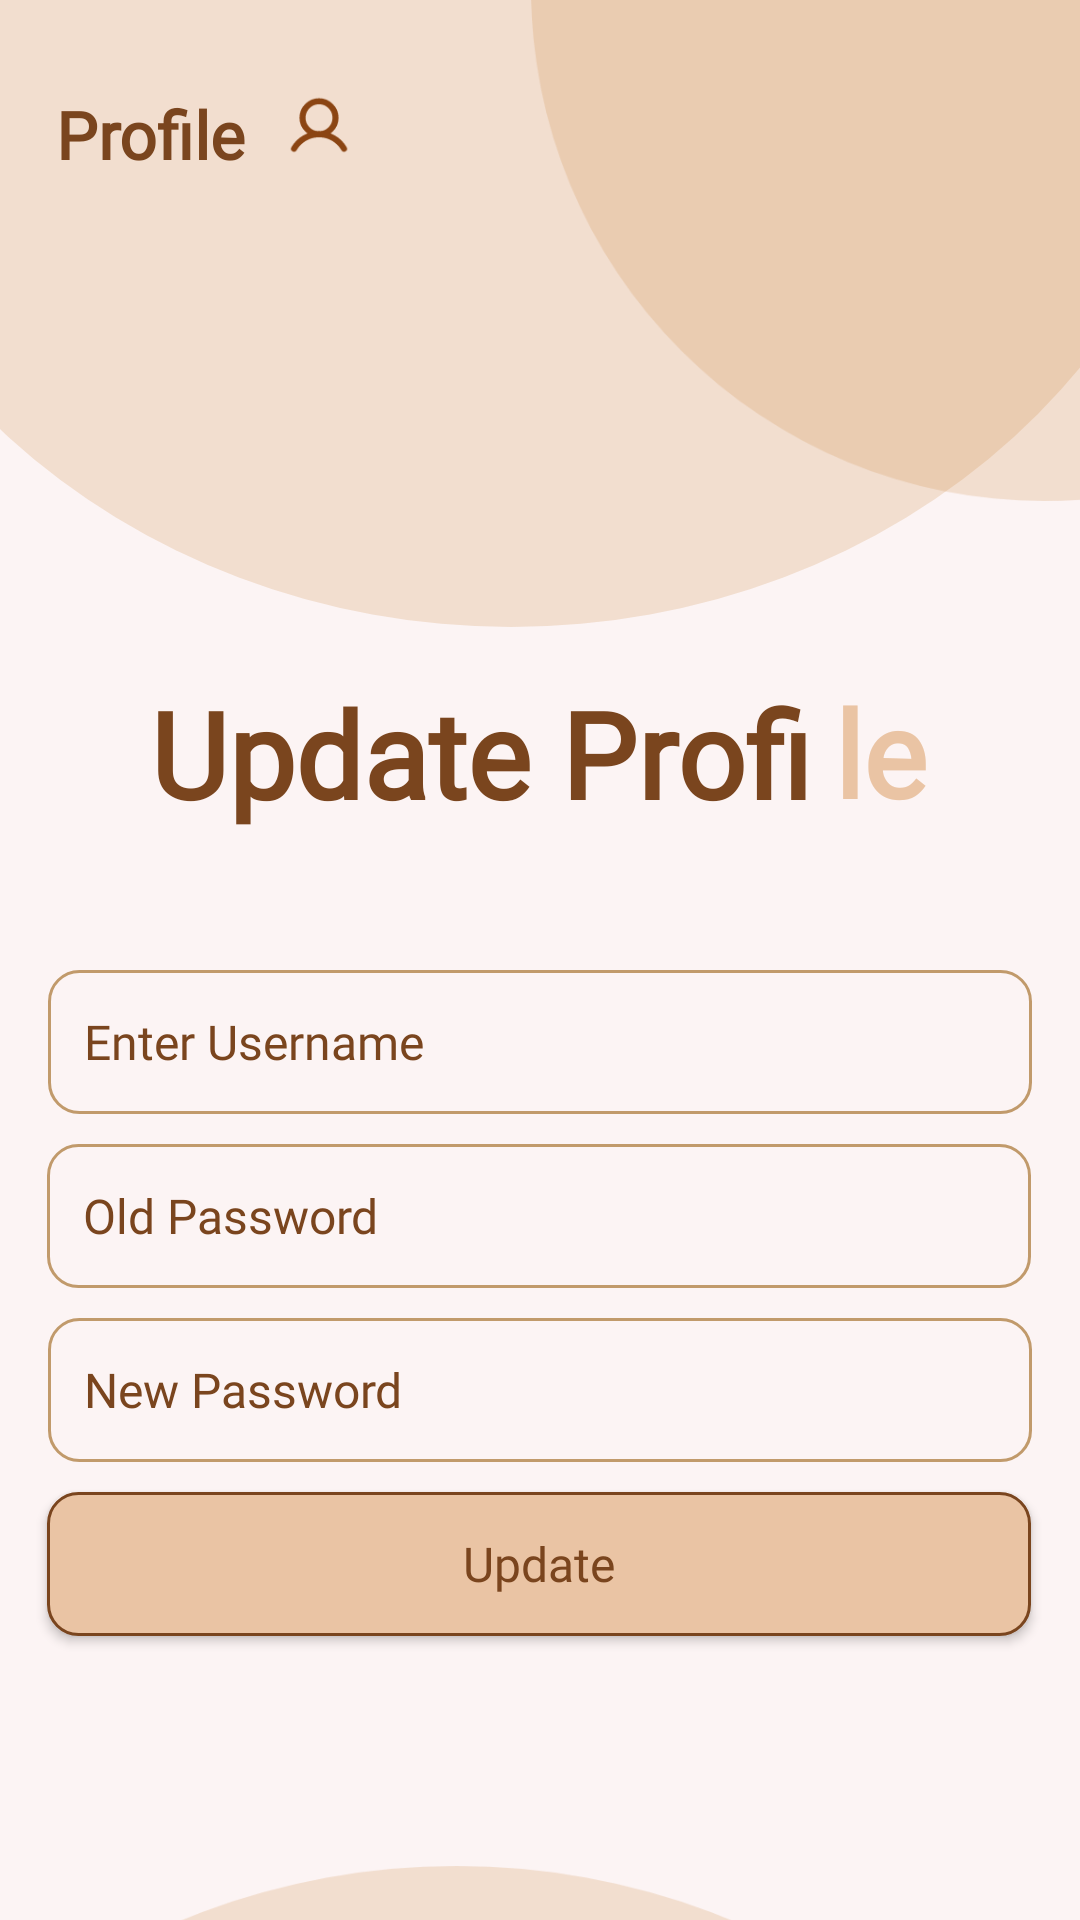

Icon bounding boxes for this 1080px x 1920px phone screenshot, format (x1, y1, x2, y2):
user: (290, 98, 348, 152)
